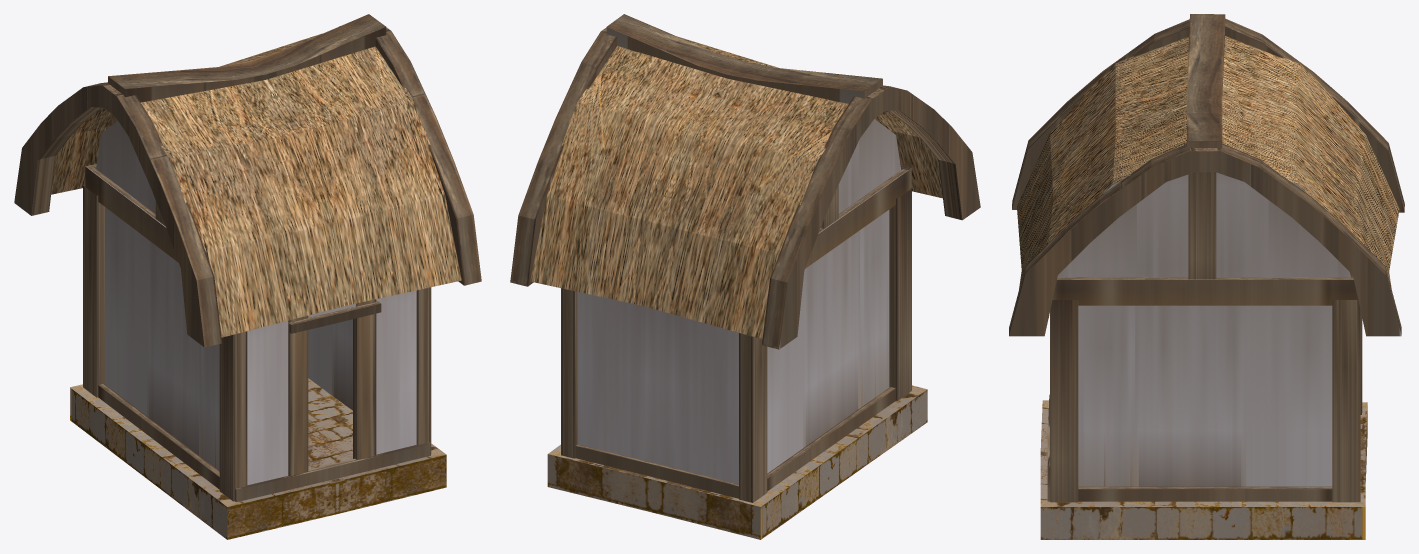
Rendered from medieval house3.fbx.
3 views of the same model, side by side, from view 1: azimuth 30°, elevation 25°; view 2: azimuth 150°, elevation 25°; view 3: azimuth 270°, elevation 25° (orthographic).
Parts seen in each view (by area): view 1: house_Cube.026; view 2: house_Cube.026; view 3: house_Cube.026.
Boxes of the visible parts, x1,y1,x2,y2 form: house_Cube.026: (14,14,481,539); house_Cube.026: (510,14,980,539); house_Cube.026: (1009,14,1404,539).
Size of the model in its own units: 249 by 348 by 309.
